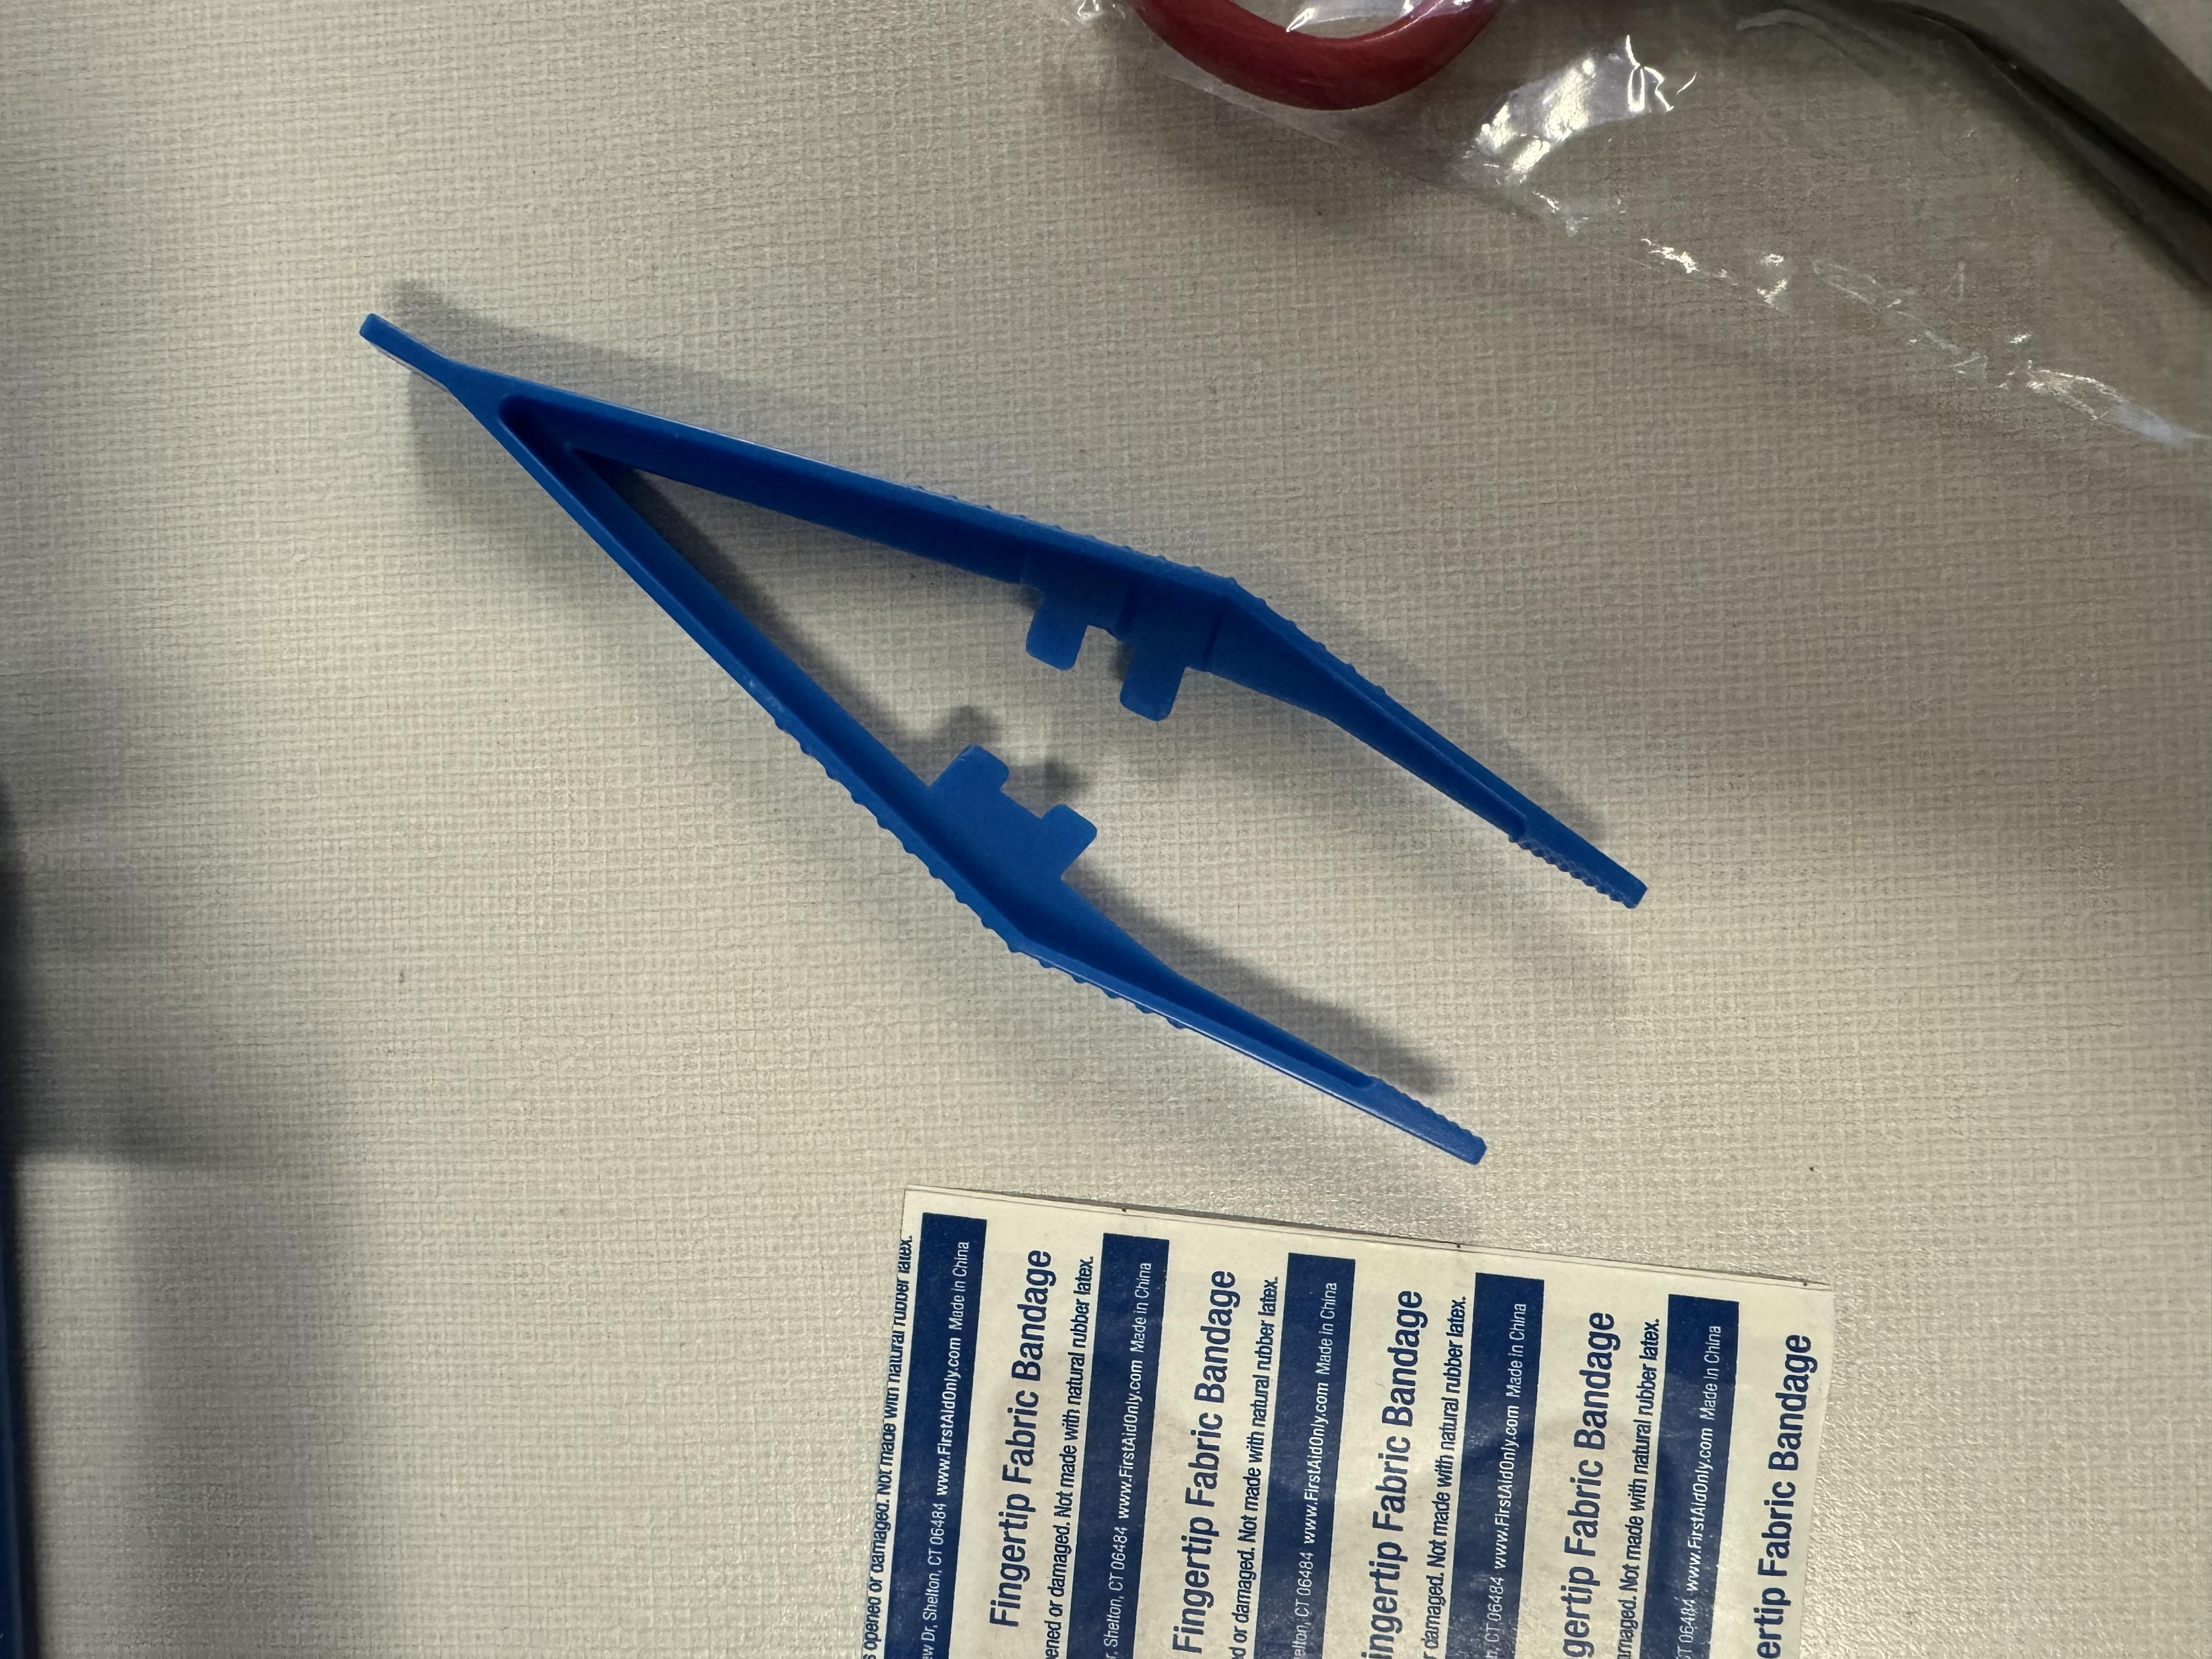bandage: (0, 619, 578, 1452)
tweezers: (585, 244, 1888, 1256)
